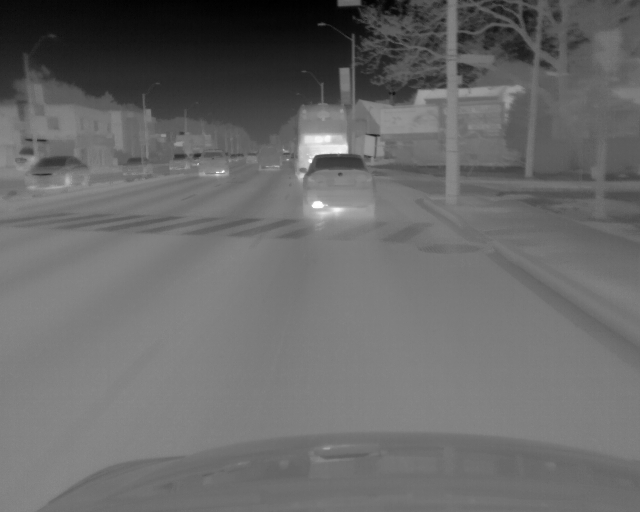car: (296, 105, 365, 182), (298, 154, 375, 219), (25, 156, 90, 195), (119, 156, 153, 182), (198, 150, 229, 178), (258, 147, 280, 171), (170, 153, 190, 173), (246, 151, 257, 164), (191, 152, 200, 165), (229, 153, 240, 161)
